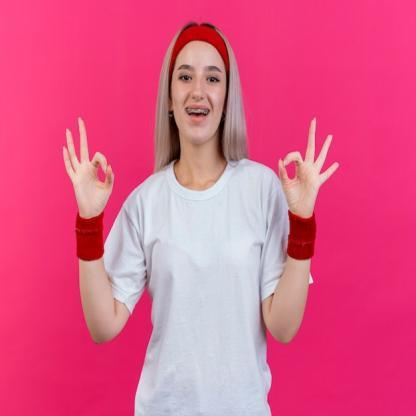ok: (276, 116, 342, 218), (60, 112, 116, 222)
